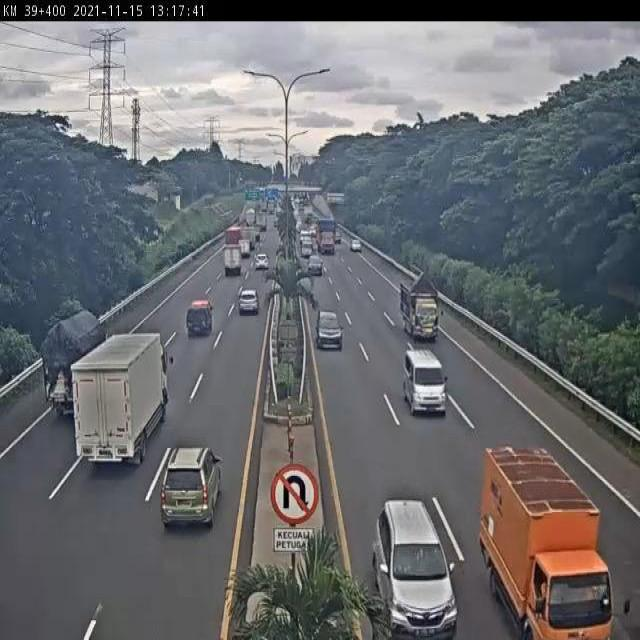car: (371, 500, 460, 640), (157, 444, 226, 537), (402, 348, 449, 417), (316, 309, 345, 352), (237, 287, 259, 316), (306, 253, 325, 279)
truck-m-: (479, 450, 616, 640), (72, 331, 173, 465), (41, 309, 109, 422), (399, 274, 442, 342)
truck-s-: (186, 299, 215, 337), (222, 245, 244, 278)
